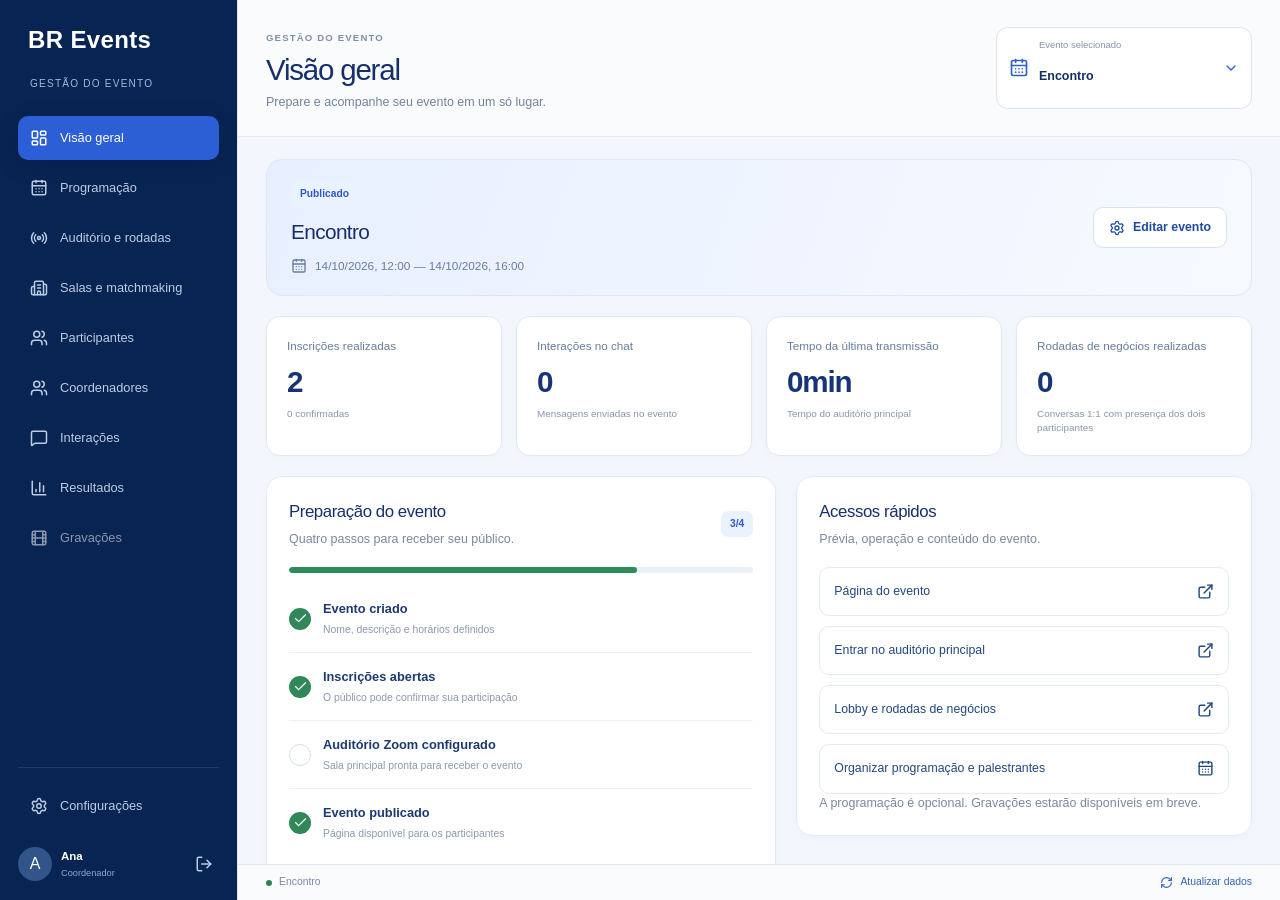
Scenario: coordenação do evento e salas por empresa › abre o painel para coordenador com conta participante e exibe sua equipe
Click the button "Coordenadores". click: (118, 388)
box: top-left (18, 366), bottom-right (219, 410)
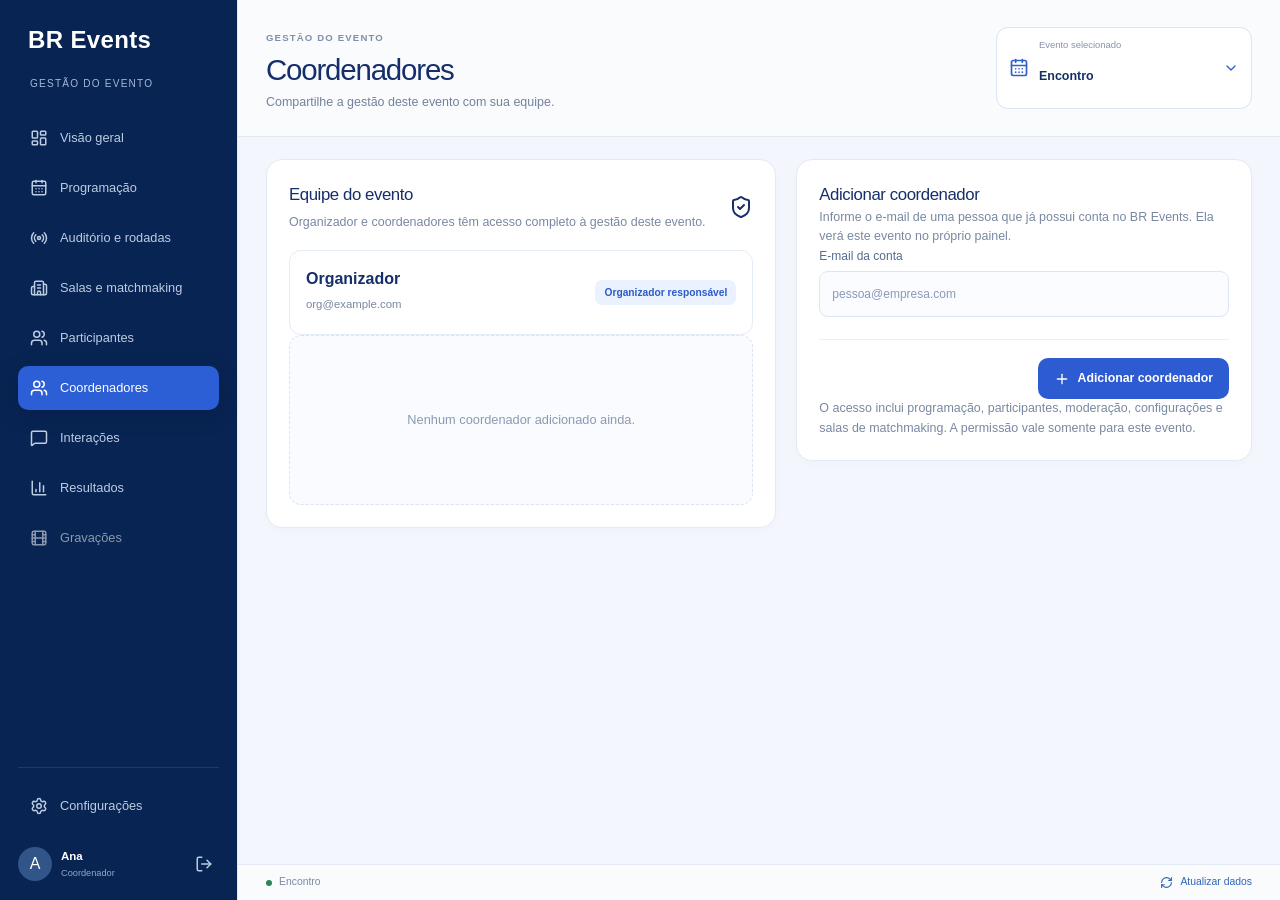
Now the heading "Equipe do evento" is shown, box top-left (289, 185), bottom-right (413, 204)
